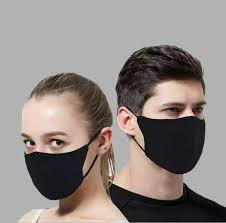cloth_mask: (118, 106, 206, 177), (22, 149, 90, 200)
